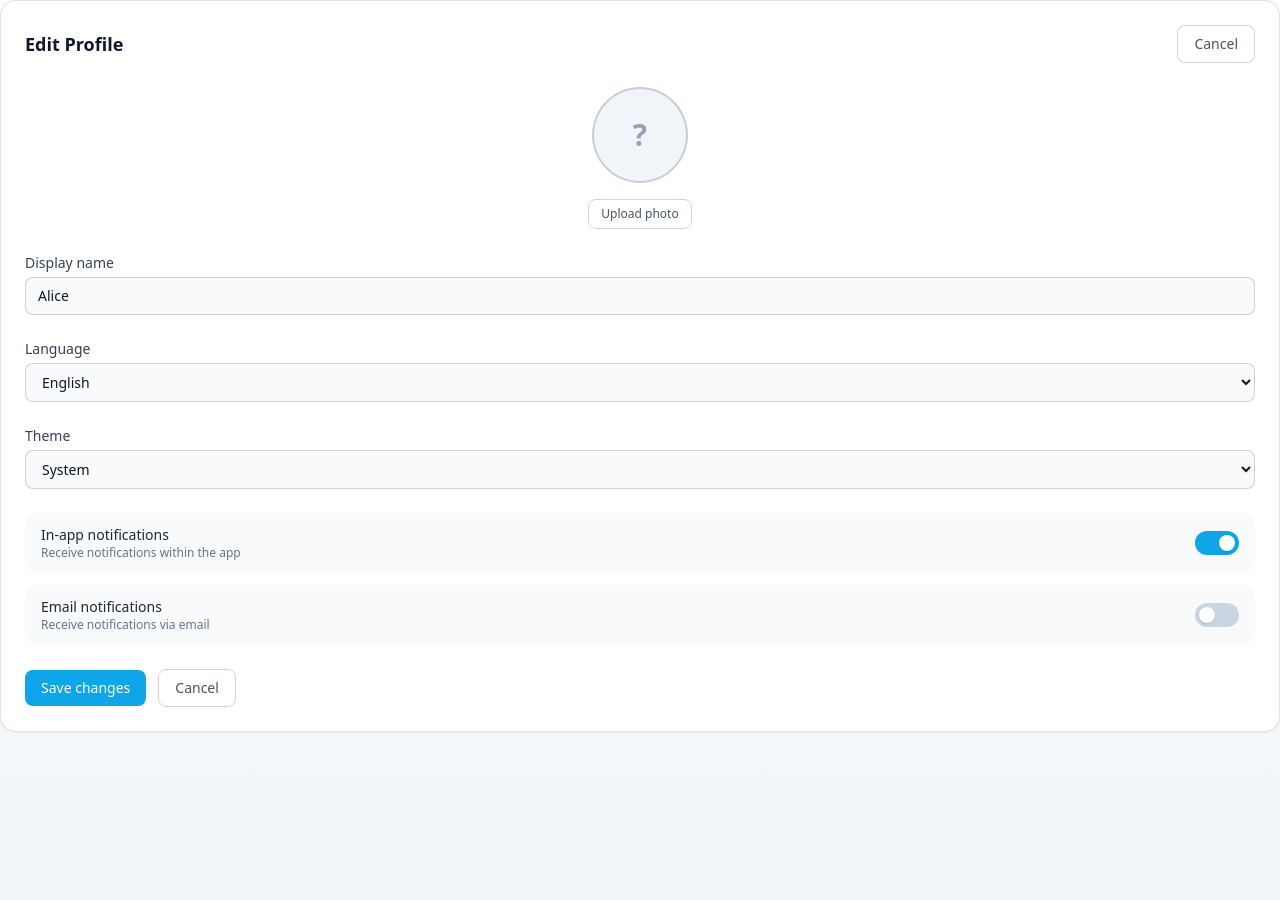
ProfileEdit › shows validation error for empty display name
Clear the field labelled "Display name": (640, 296) [25,277,1255,315]
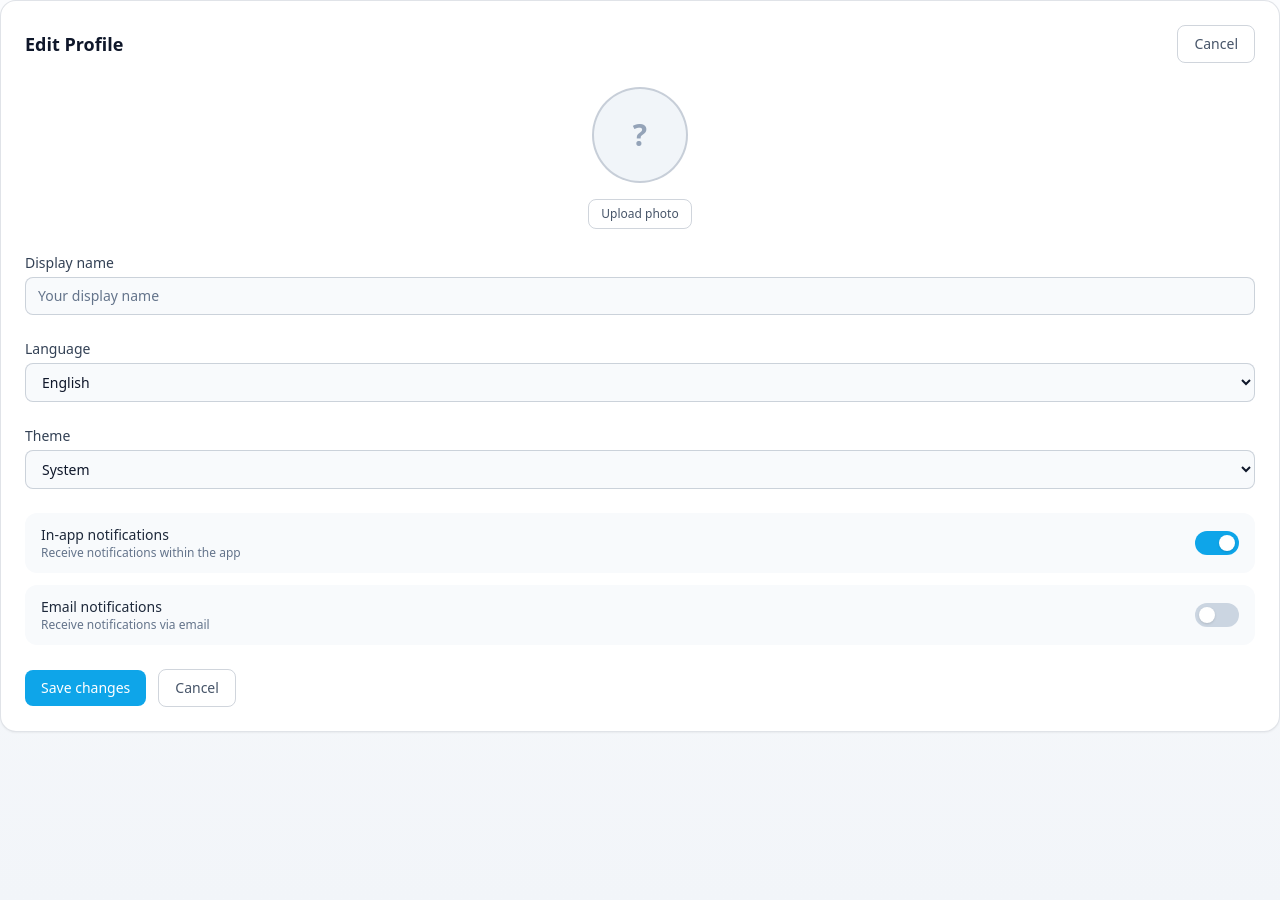
Click the button "Save changes": (86, 688) [25,670,146,706]
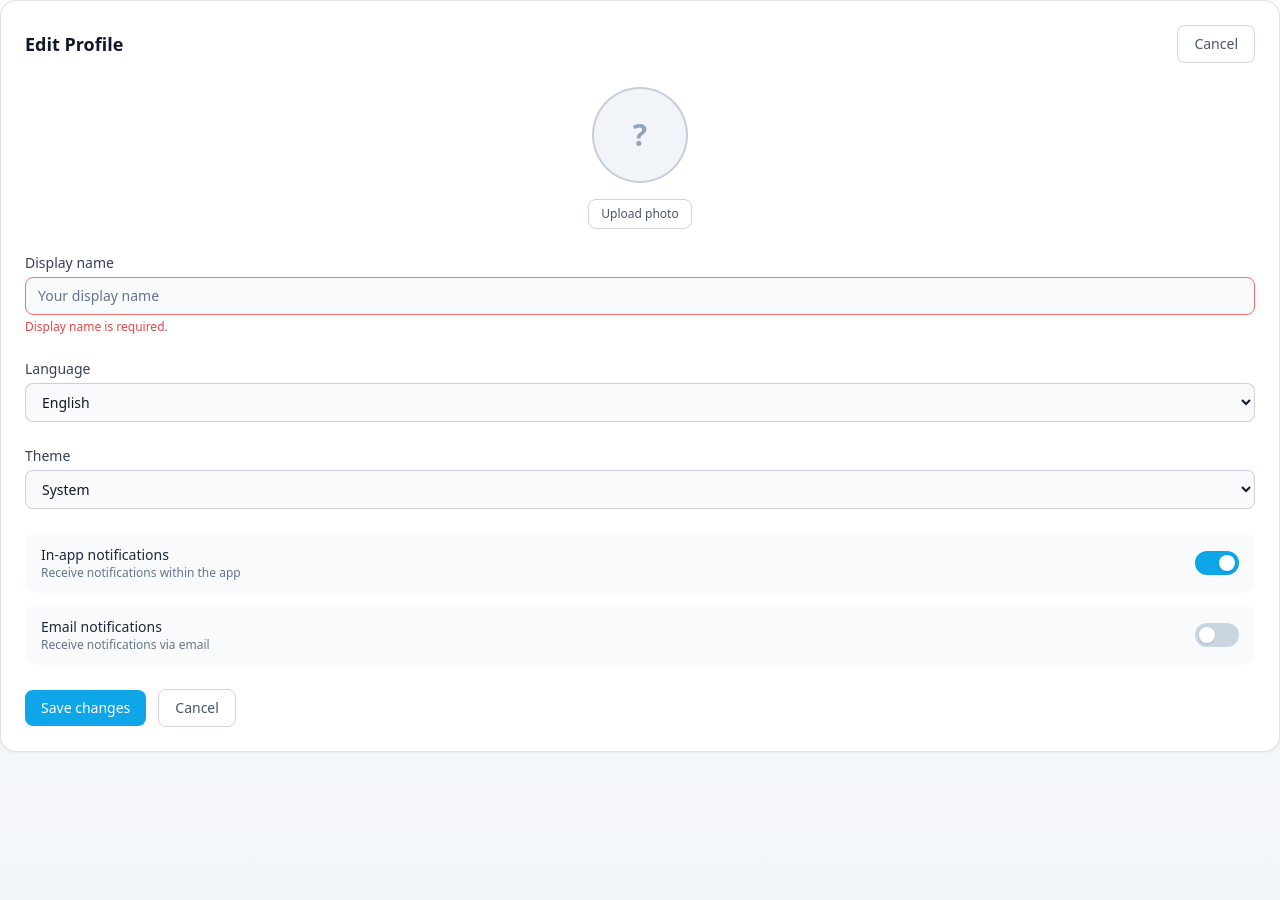
Expected: the text "Display name is required." is shown, [25,318,168,335]
